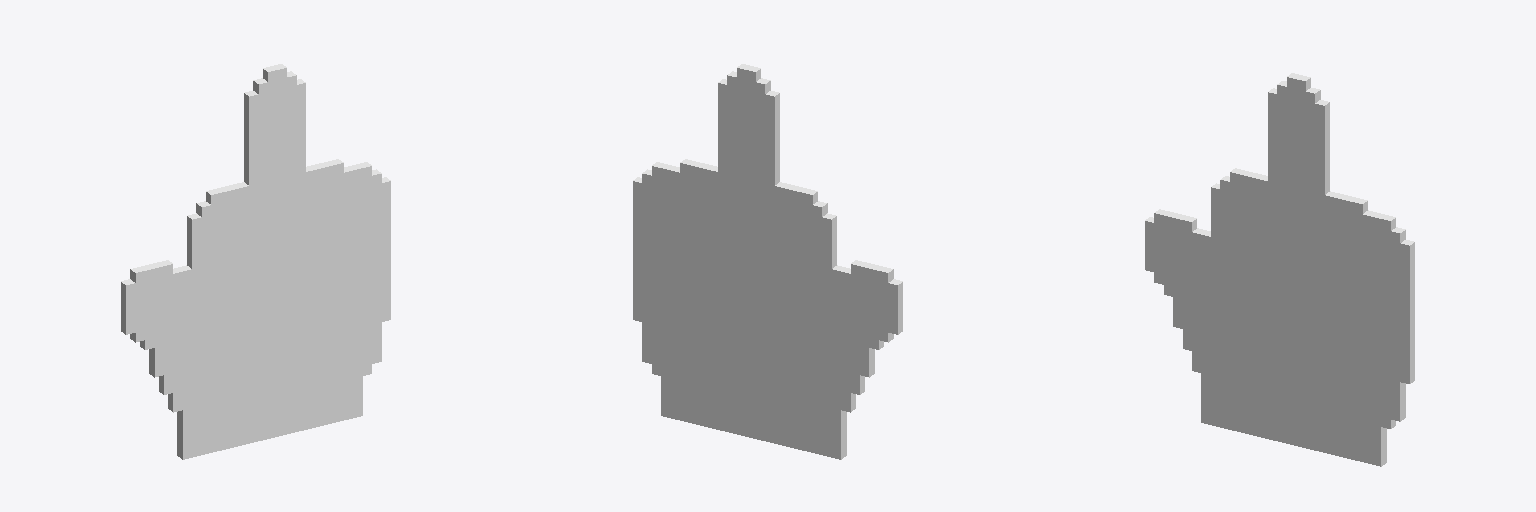
The model's file is middle_f.obj.
3 views of the same model, side by side, from view 1: azimuth 30°, elevation 25°; view 2: azimuth 150°, elevation 25°; view 3: azimuth 330°, elevation 25° (orthographic).
Parts seen in each view (by area): view 1: middle_f; view 2: middle_f; view 3: middle_f.
Part boxes in pixels (x1,y1,x2,y2): middle_f: (121,64,390,459); middle_f: (633,64,902,459); middle_f: (1145,73,1414,466).
Size of the model in its own units: 28 by 37 by 1.